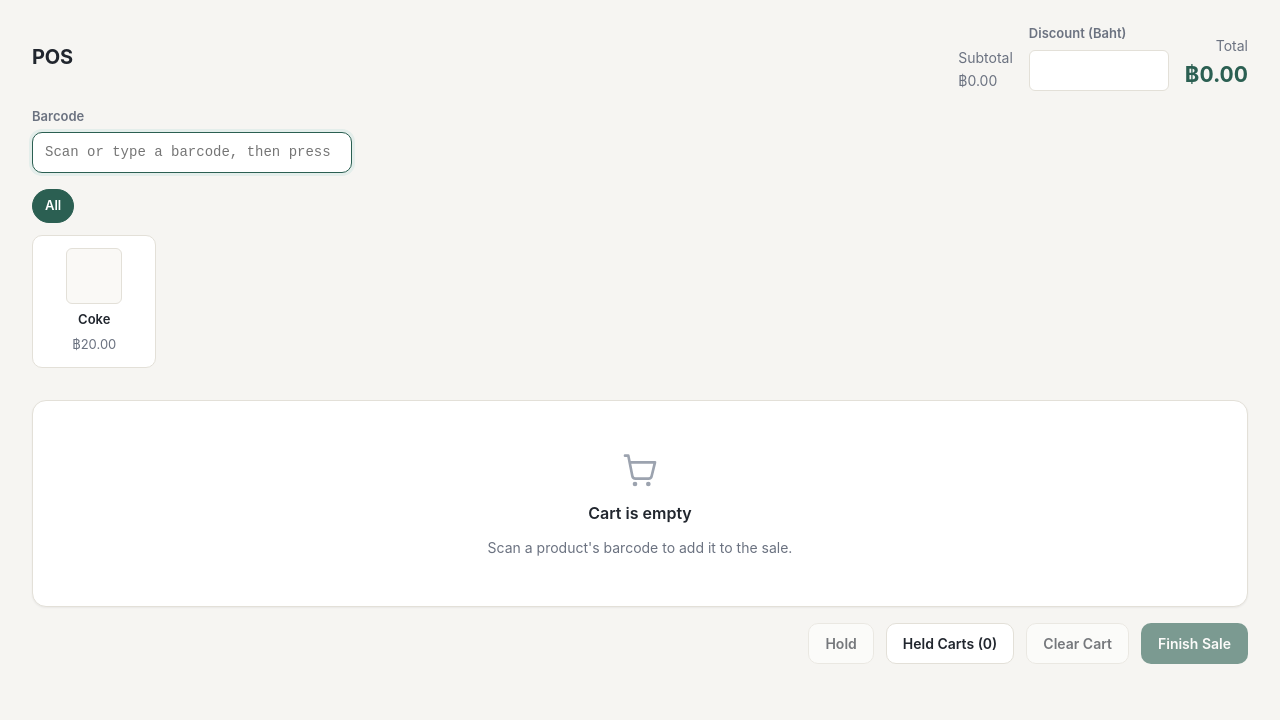
Test: PosPage › clears the cart when Clear Cart is clicked
The image size is (1280, 720).
Type "111" into the field labelled "Barcode".
click(192, 152); type("111")  # box left=32, top=132, right=352, bottom=173
Then press Enter
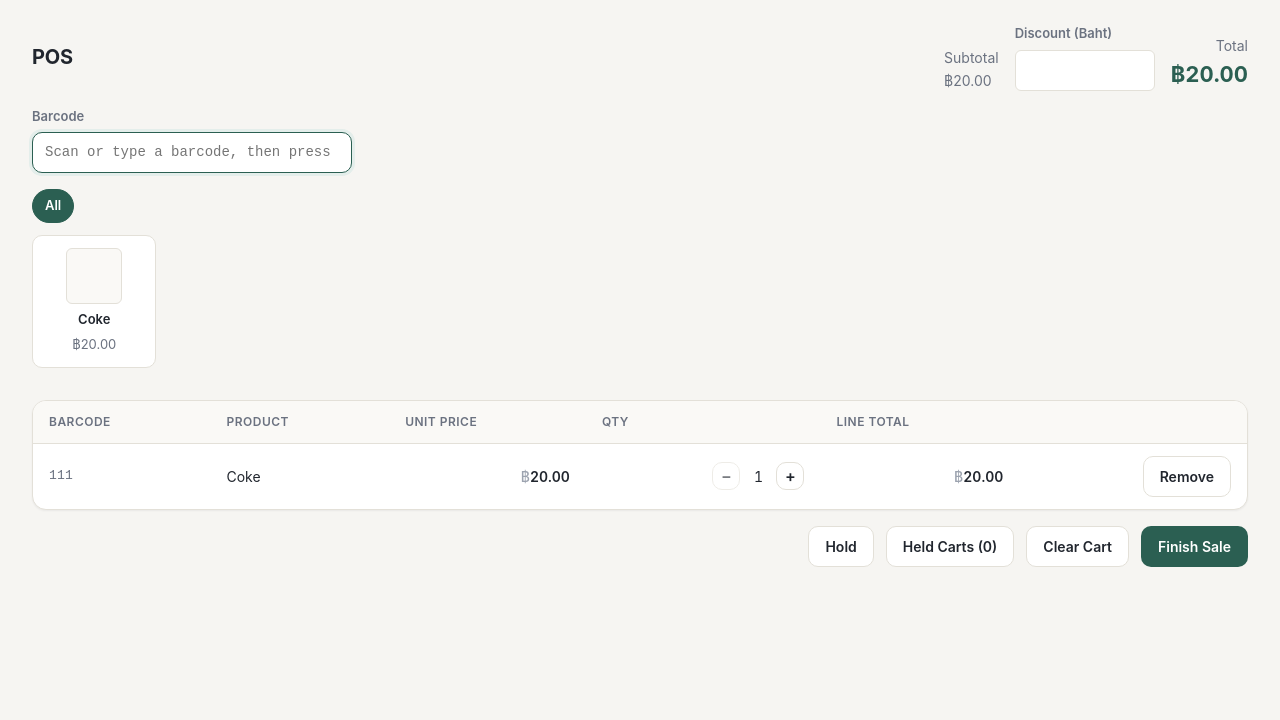
Expected: the cell "Coke" is shown, left=210, top=443, right=389, bottom=508
Click the button "Clear Cart".
click(1078, 546)  # box left=1026, top=526, right=1129, bottom=566
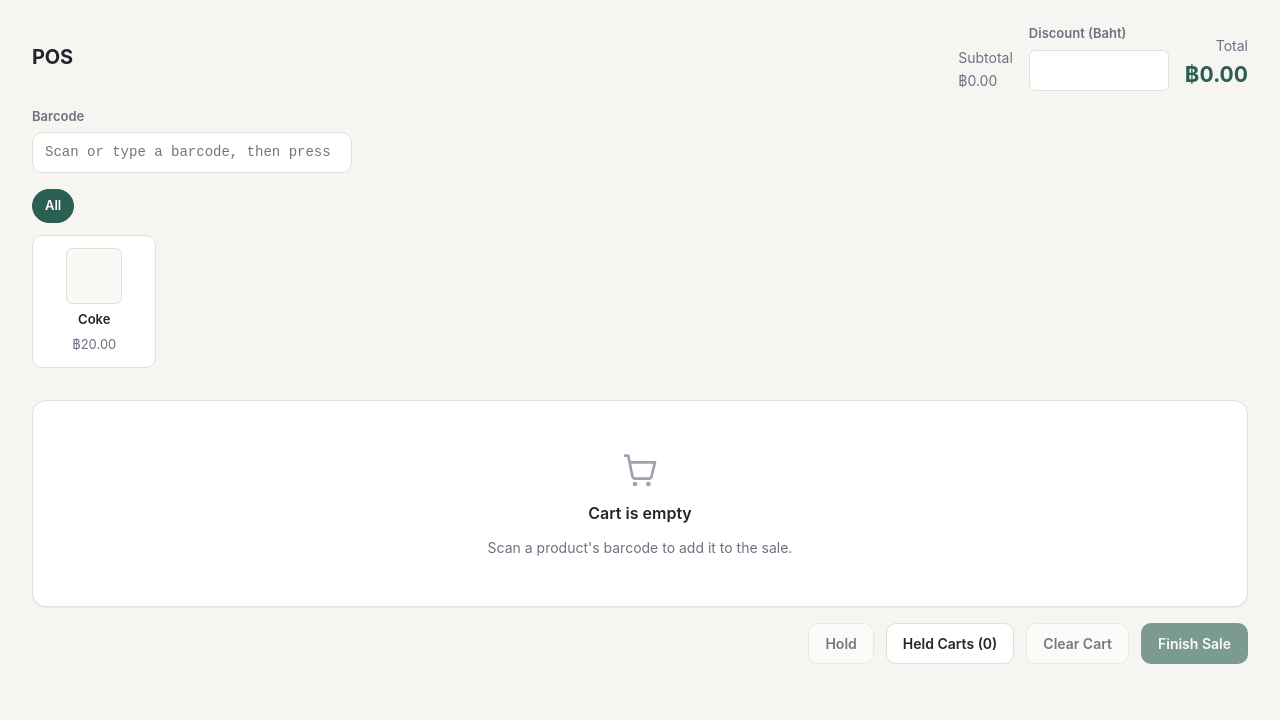
Expected: the heading "Cart is empty" is shown, left=588, top=500, right=692, bottom=524
Expected: the text named "Cart total" reads "฿0.00", left=1185, top=60, right=1248, bottom=86
